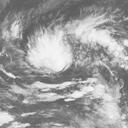cyclone: (24, 27, 72, 73)
